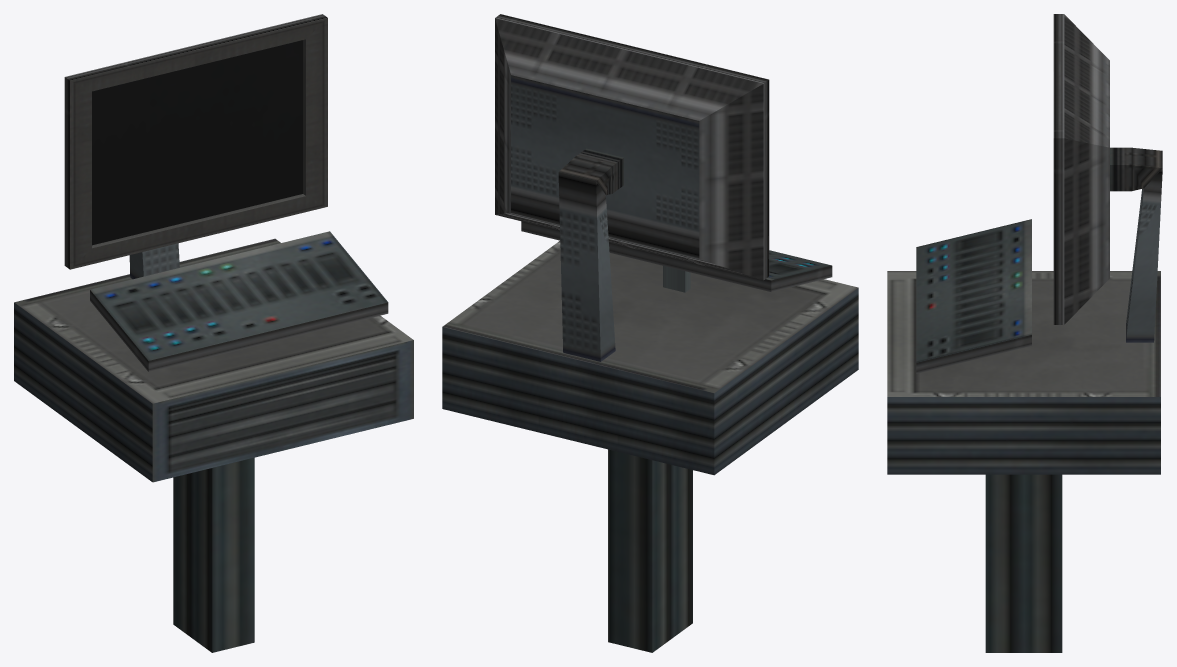
Rendered from pcgerador-desligado.fbx.
3 views of the same model, side by side, from view 1: azimuth 30°, elevation 25°; view 2: azimuth 150°, elevation 25°; view 3: azimuth 270°, elevation 25° (orthographic). The views are drawn at different scales.
Visible parts, largest first — view 1: Cylinder.001; view 2: Cylinder.001; view 3: Cylinder.001.
Boxes of the visible parts, x1,y1,x2,y2 form: Cylinder.001: [14, 14, 413, 652]; Cylinder.001: [442, 14, 858, 652]; Cylinder.001: [887, 14, 1162, 652].
Bounding box in the file's own units: 0.9161 × 1.92 × 0.8475.
